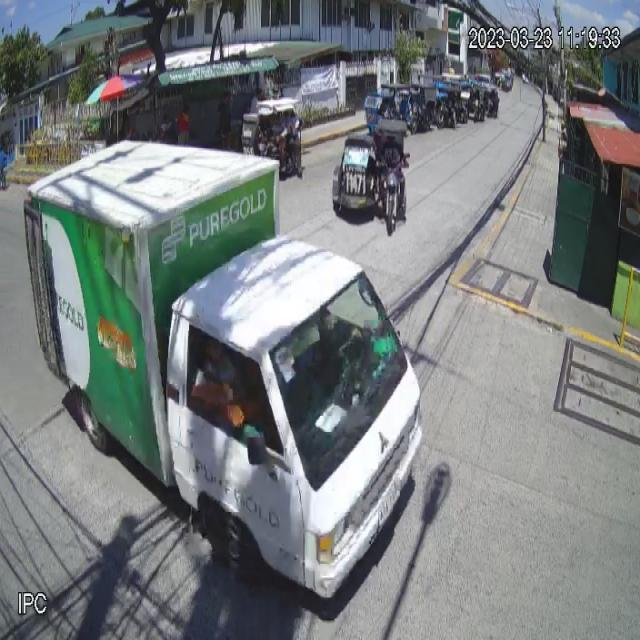Tricycle: (332, 118, 412, 236)
Van: (23, 139, 423, 604)
